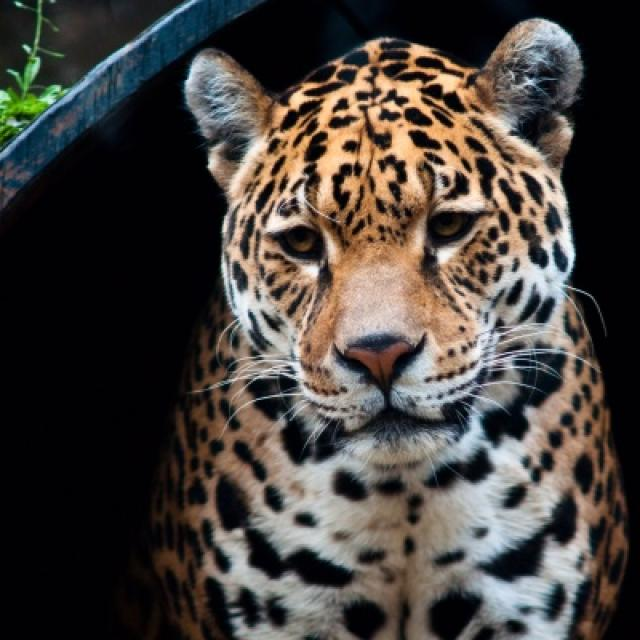Jaguar: (104, 18, 634, 638)
